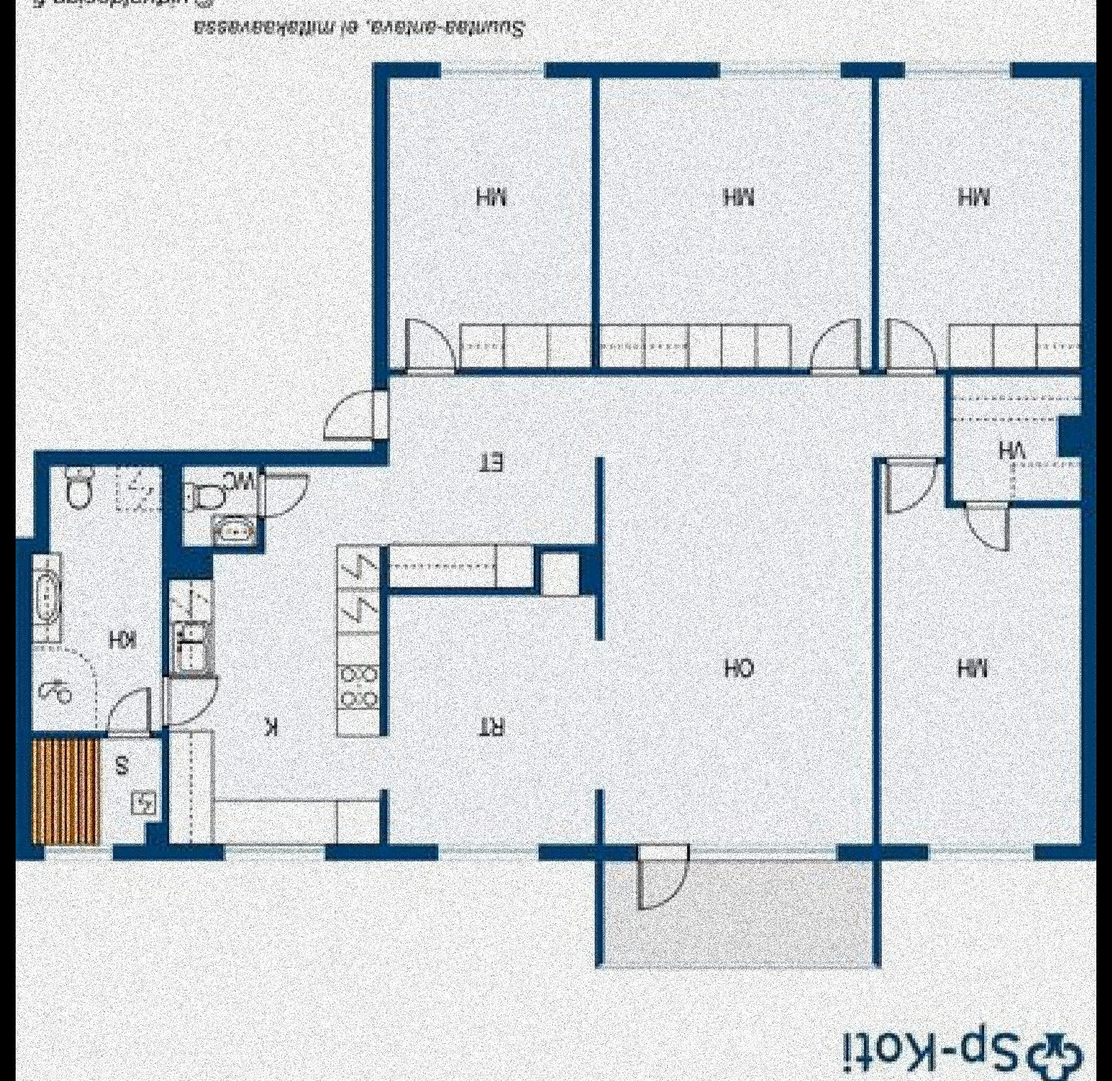door: (632, 842, 695, 915), (316, 392, 389, 455), (803, 316, 862, 373), (164, 669, 218, 723), (886, 314, 933, 373), (965, 496, 1009, 559), (402, 314, 449, 371), (889, 457, 933, 513), (113, 686, 147, 745), (263, 476, 309, 517)
window: (688, 846, 837, 868), (898, 59, 1019, 81), (931, 838, 1034, 863), (716, 60, 842, 77), (436, 842, 535, 863), (442, 59, 544, 79), (225, 841, 325, 861), (41, 843, 116, 863)
zone: (167, 373, 947, 844), (600, 74, 875, 362), (885, 457, 1083, 840), (873, 79, 1081, 377), (389, 74, 592, 365), (390, 593, 606, 842), (35, 465, 167, 730), (604, 859, 871, 970), (954, 375, 1078, 502), (23, 739, 164, 843)
